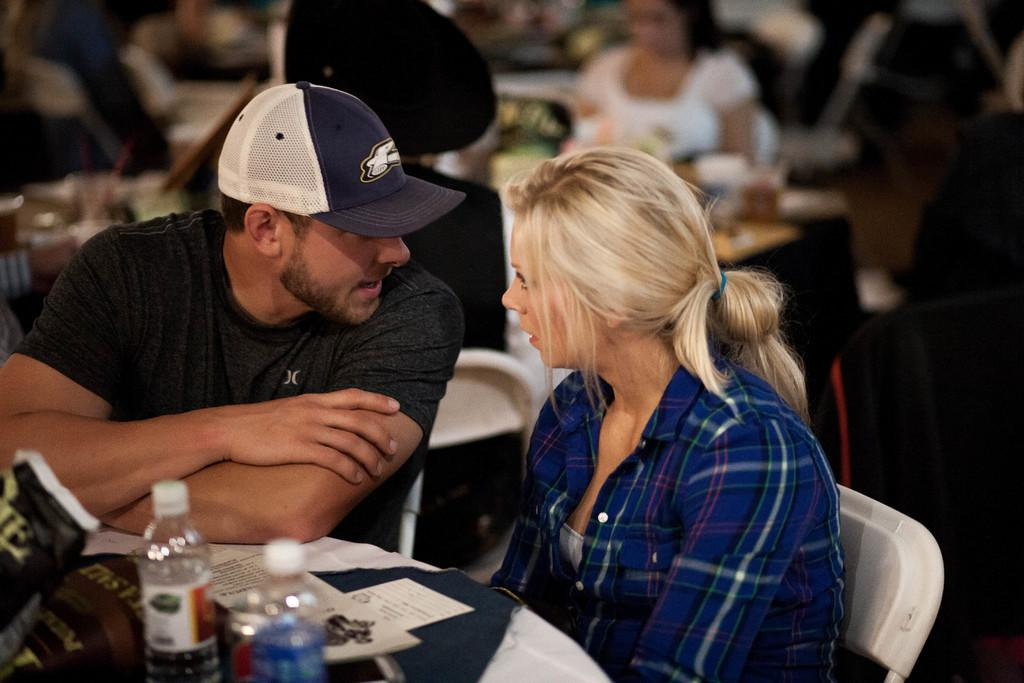Hat: (220, 81, 470, 240)
